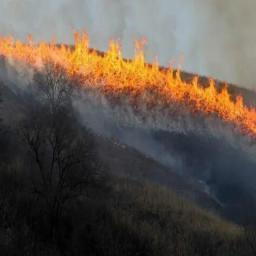Low smoke: (13, 0, 253, 33), (69, 91, 131, 136), (143, 141, 188, 173)
Medium fire: (140, 58, 256, 136), (3, 32, 147, 87)
